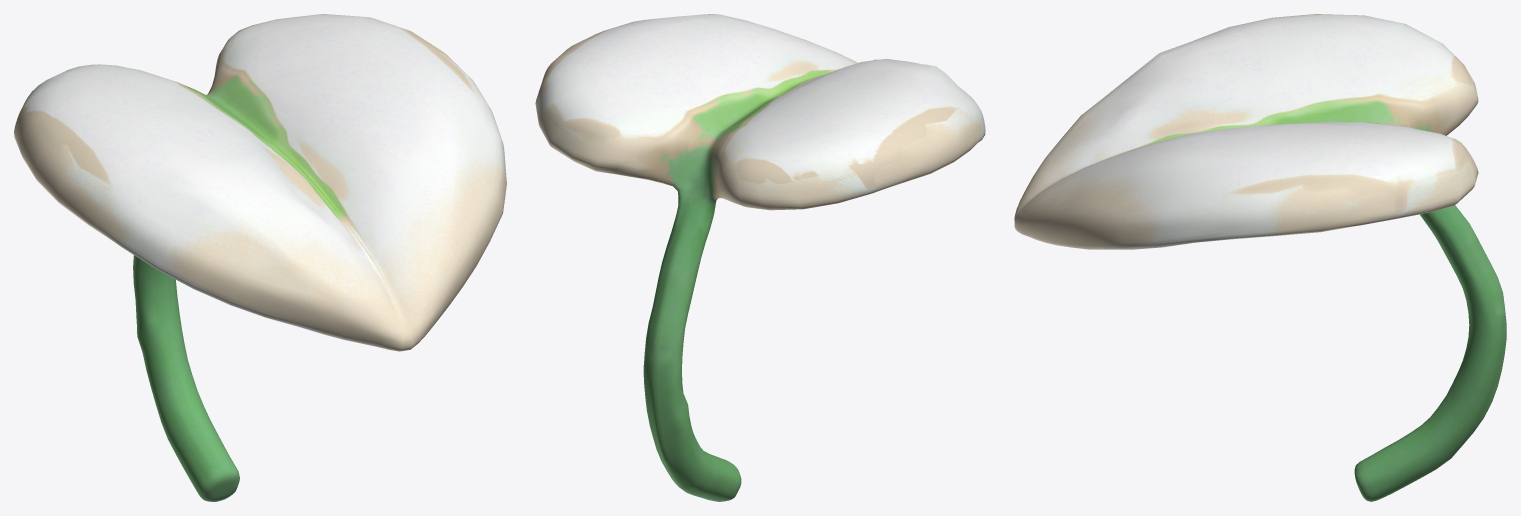
The model's file is pothos_whitegreen_29_v1.glb.
The picture shows the model from 3 angles, left to right: view 1: azimuth 30°, elevation 25°; view 2: azimuth 150°, elevation 25°; view 3: azimuth 270°, elevation 25°; orthographic projection. The views are drawn at different scales.
Visible parts, largest first — view 1: world; view 2: world; view 3: world.
Part boxes in pixels (x1=…): world: x1=14, y1=14, x2=506, y2=501; world: x1=535, y1=14, x2=985, y2=501; world: x1=1014, y1=14, x2=1506, y2=501.
Size of the model in its own units: 1.82 by 1.85 by 2.
1 material, 1 textured.
